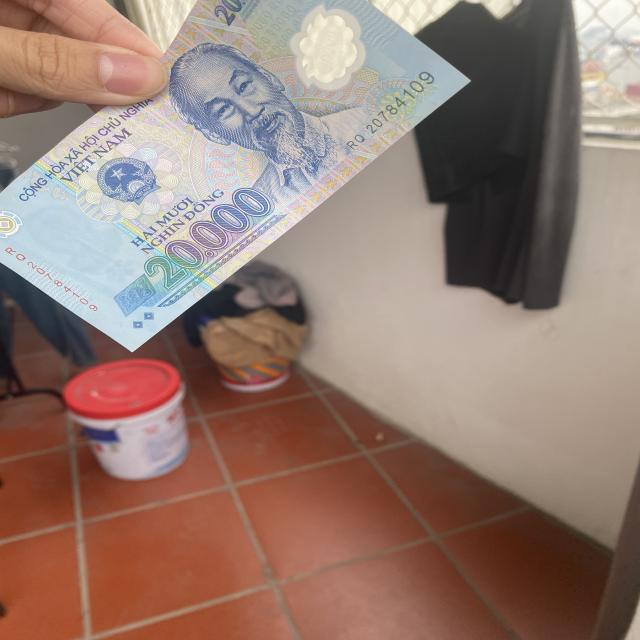20 000 VND: (0, 0, 474, 355)
